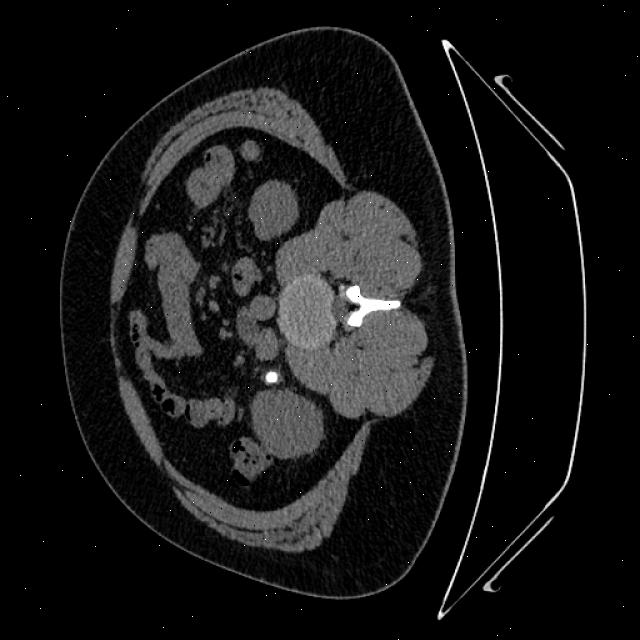kidneystone: (261, 368, 283, 385)
